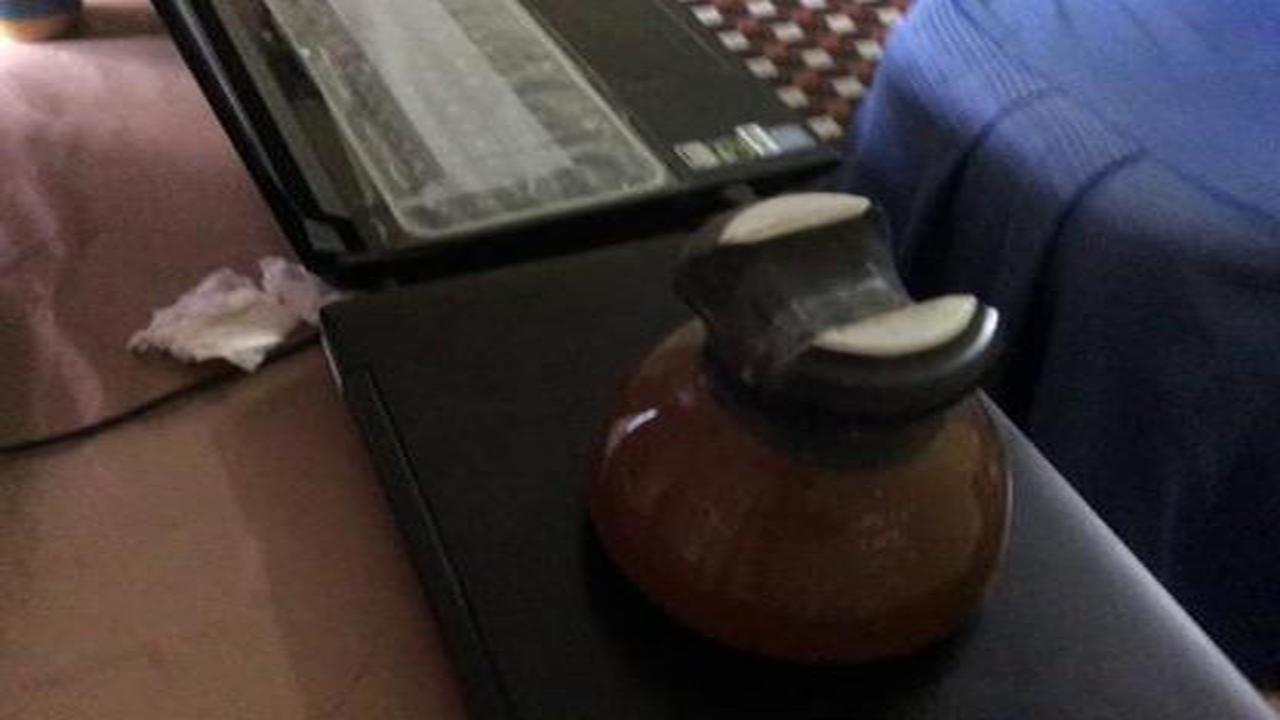insulator_pin: (576, 175, 1028, 696)
